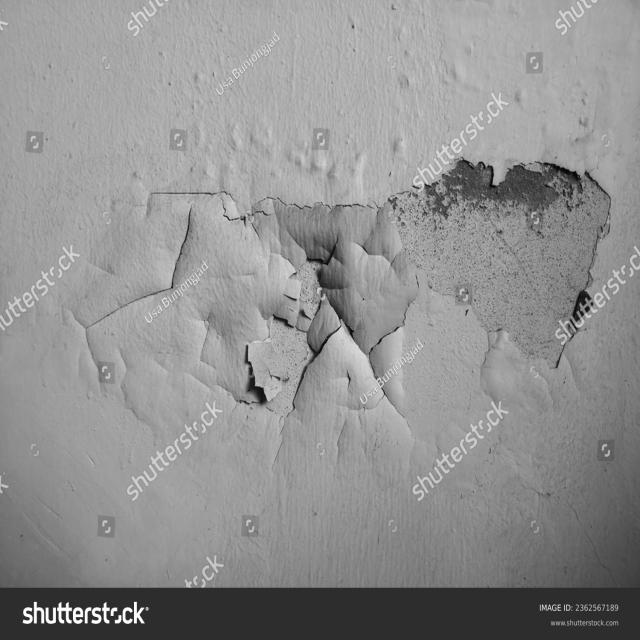peeling paint: (63, 131, 640, 490)
